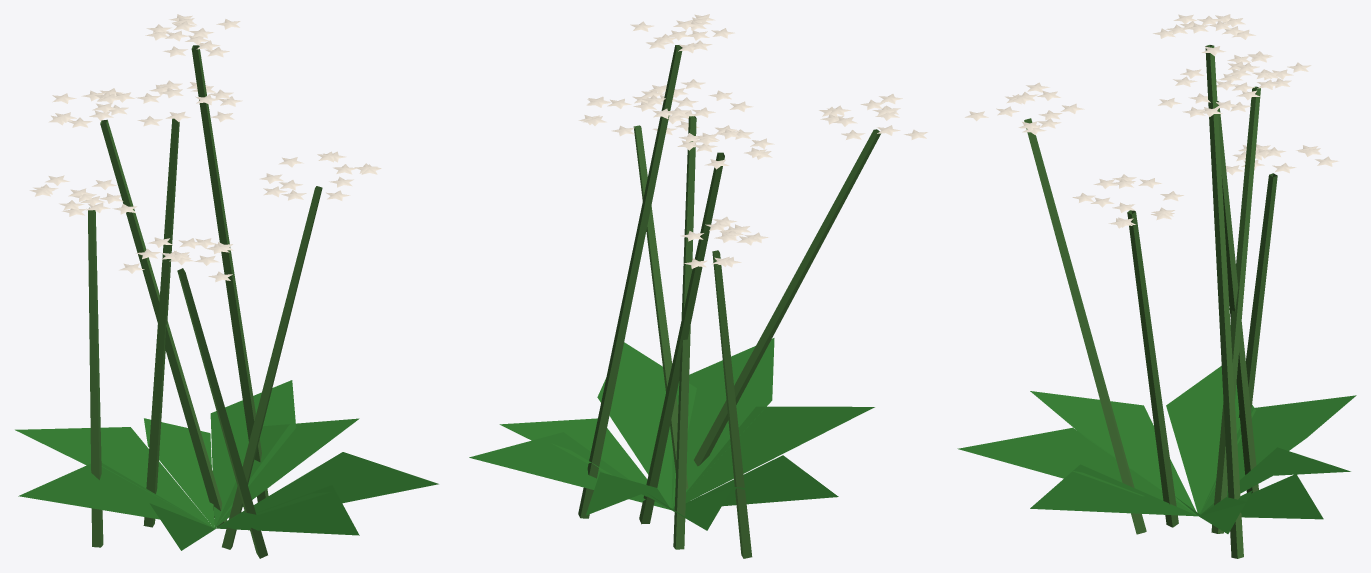
The model's file is fiori_c.glb.
3 renders of one model, left to right at view 1: azimuth 30°, elevation 25°; view 2: azimuth 150°, elevation 25°; view 3: azimuth 270°, elevation 25°, orthographic. The views are drawn at different scales.
Parts seen in each view (by area): view 1: fiori; view 2: fiori; view 3: fiori.
Boxes of the visible parts, x1,y1,x2,y2 form: fiori: (15,14,438,558); fiori: (469,14,927,558); fiori: (957,14,1356,558).
Size of the model in its own units: 0.2143 by 0.304 by 0.223.
